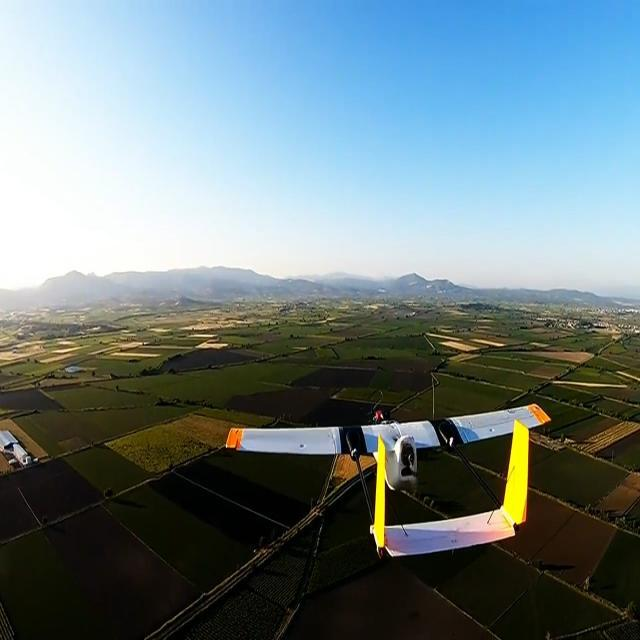iha: (220, 396, 556, 565)
